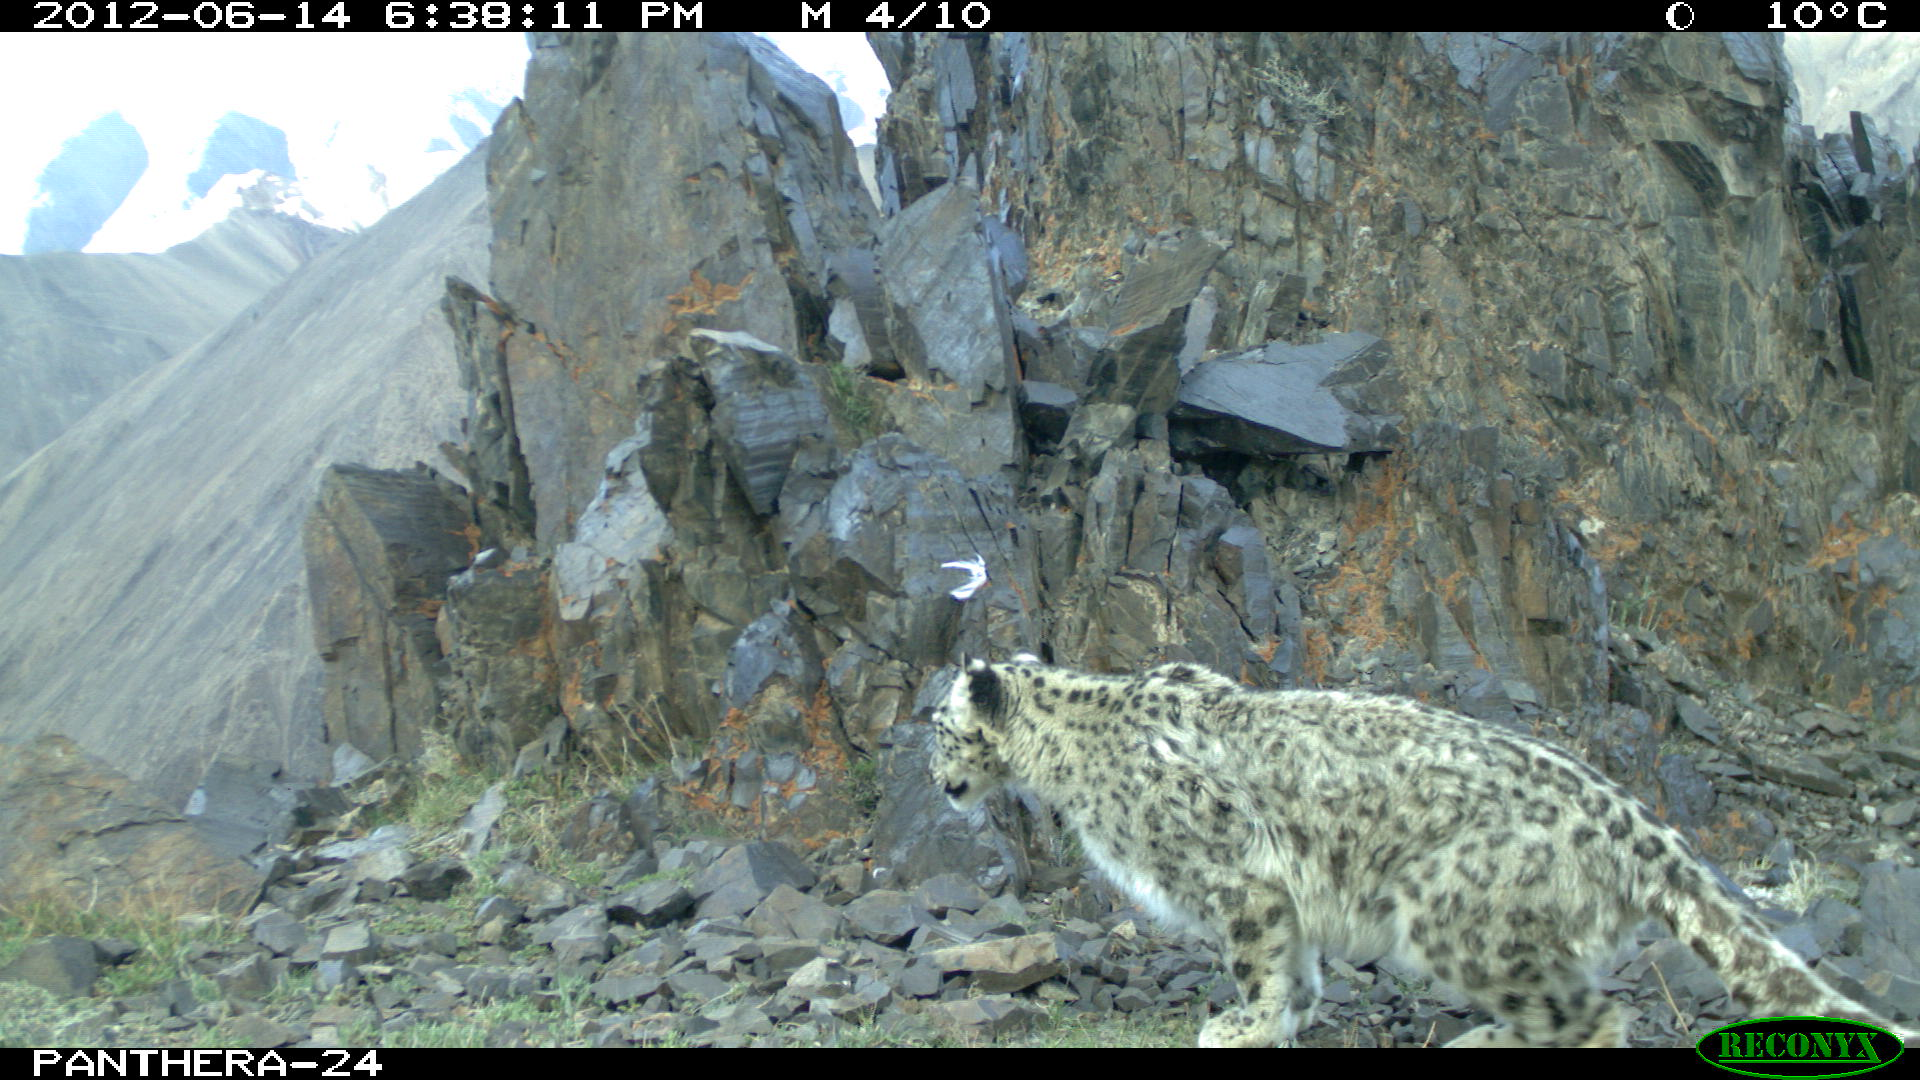Leopard: (913, 629, 1920, 1048)
